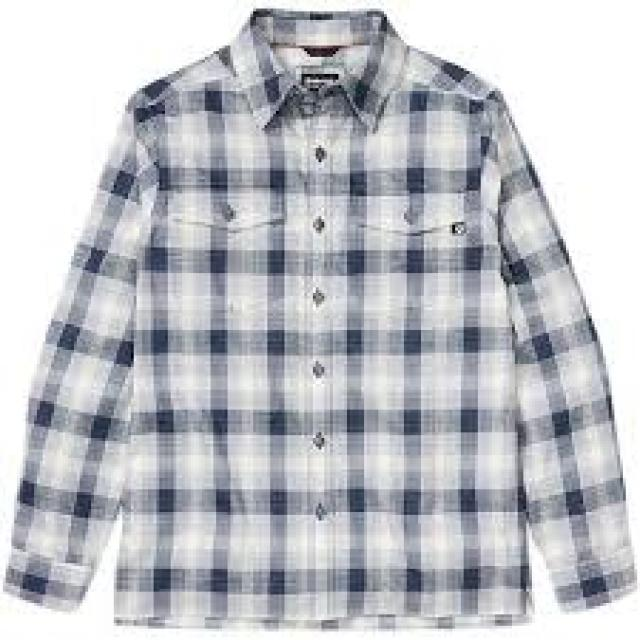plaid: (12, 12, 635, 639)
